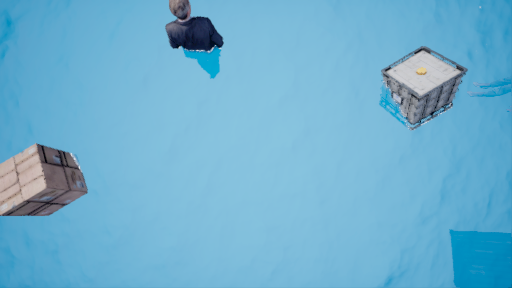person: (162, 1, 234, 88)
